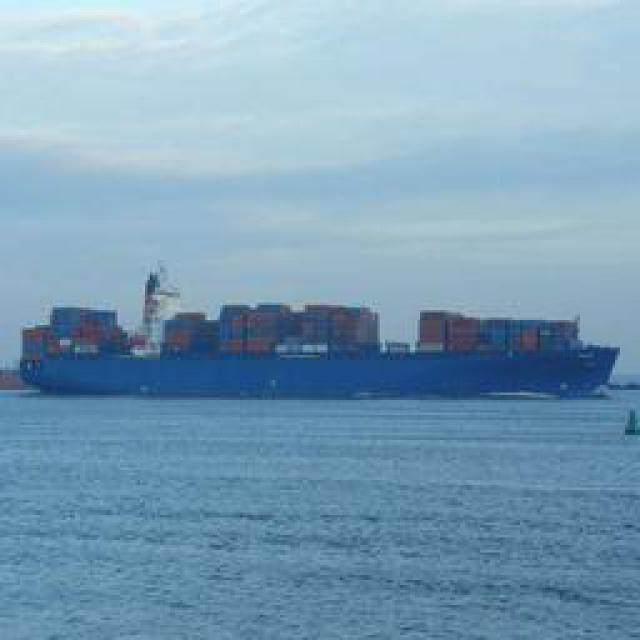Ship: (35, 280, 603, 403)
